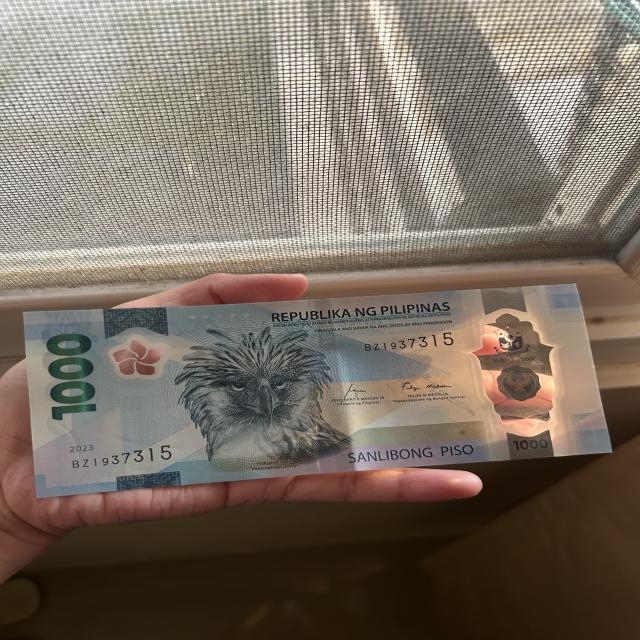clear_window: (465, 307, 563, 442)
eagle: (173, 326, 345, 466)
sampaguita: (114, 342, 172, 382)
